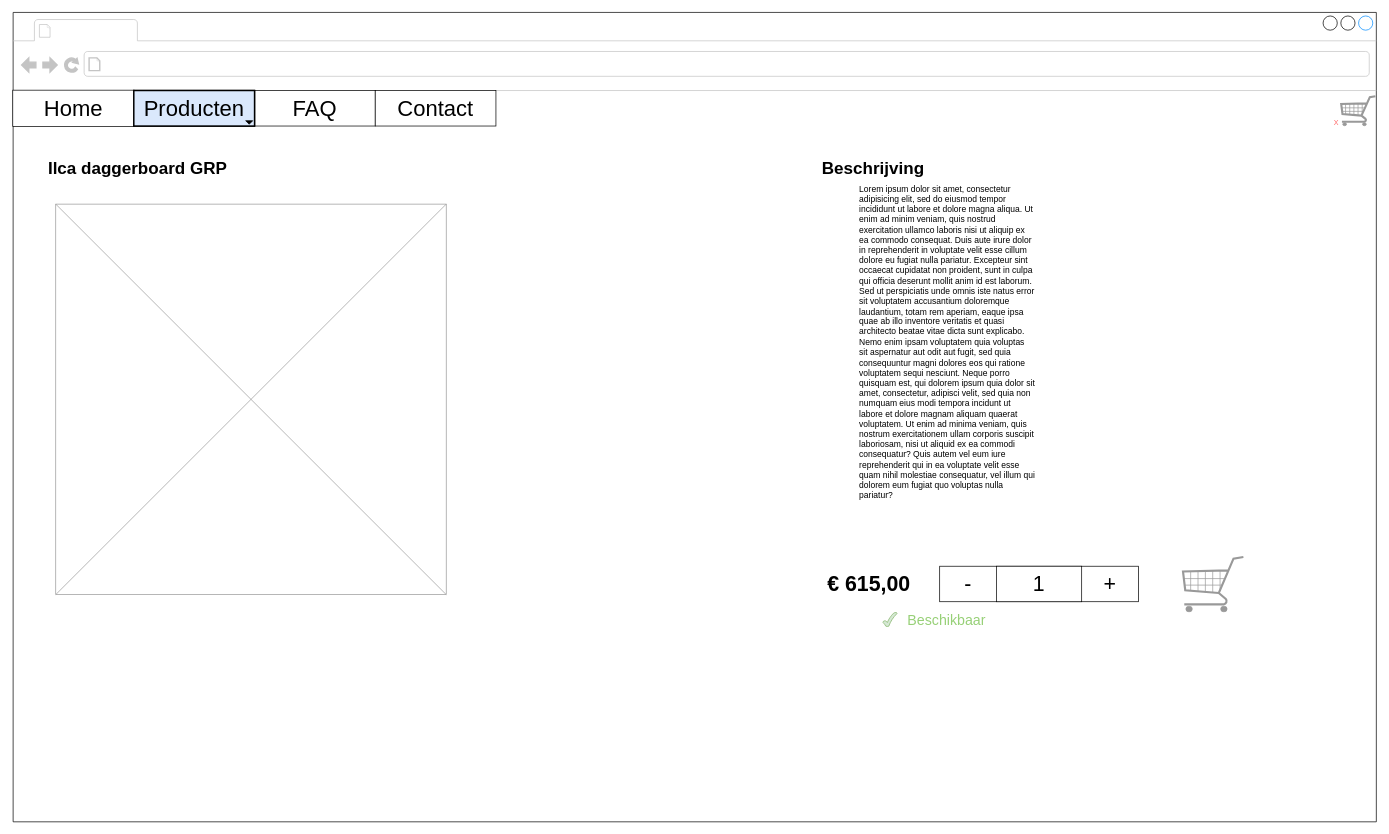
Image size: 1389x834. Some labels were removed from this diagram. Each missing label, with the box of its shape:
Foto van product: (55, 203, 446, 595)
https://www.Zeilboten.be/Ilca_daggerboard_GRP: (105, 54, 659, 73)
ILCA Daggerboard: (55, 20, 134, 39)
